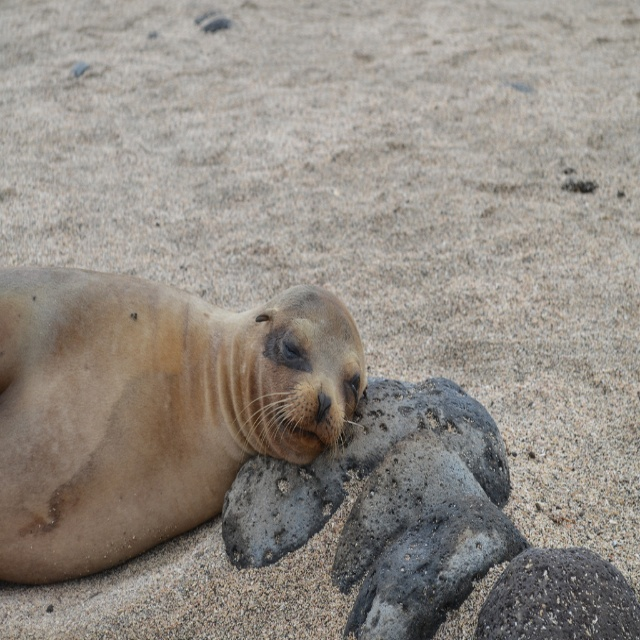Harbor seal: (0, 264, 364, 588)
